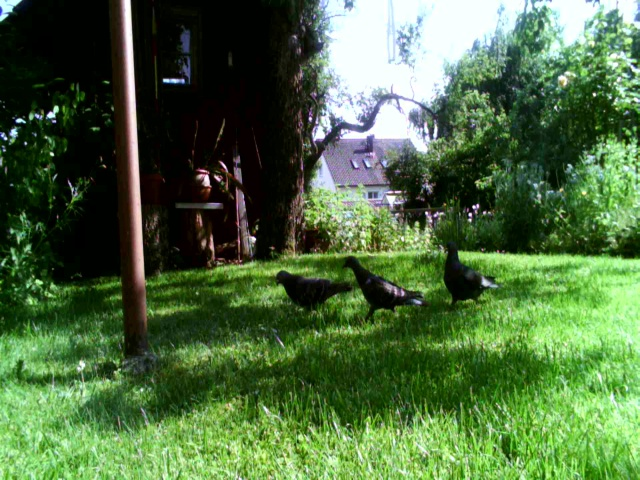Pigeon: (340, 253, 427, 320), (433, 238, 503, 312), (266, 266, 354, 314)
